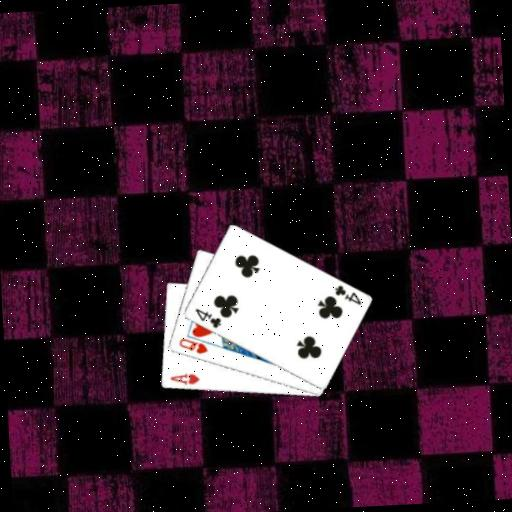4C: (331, 282, 363, 309), (192, 304, 223, 331)
AH: (167, 370, 201, 388)
QH: (175, 334, 209, 356)
